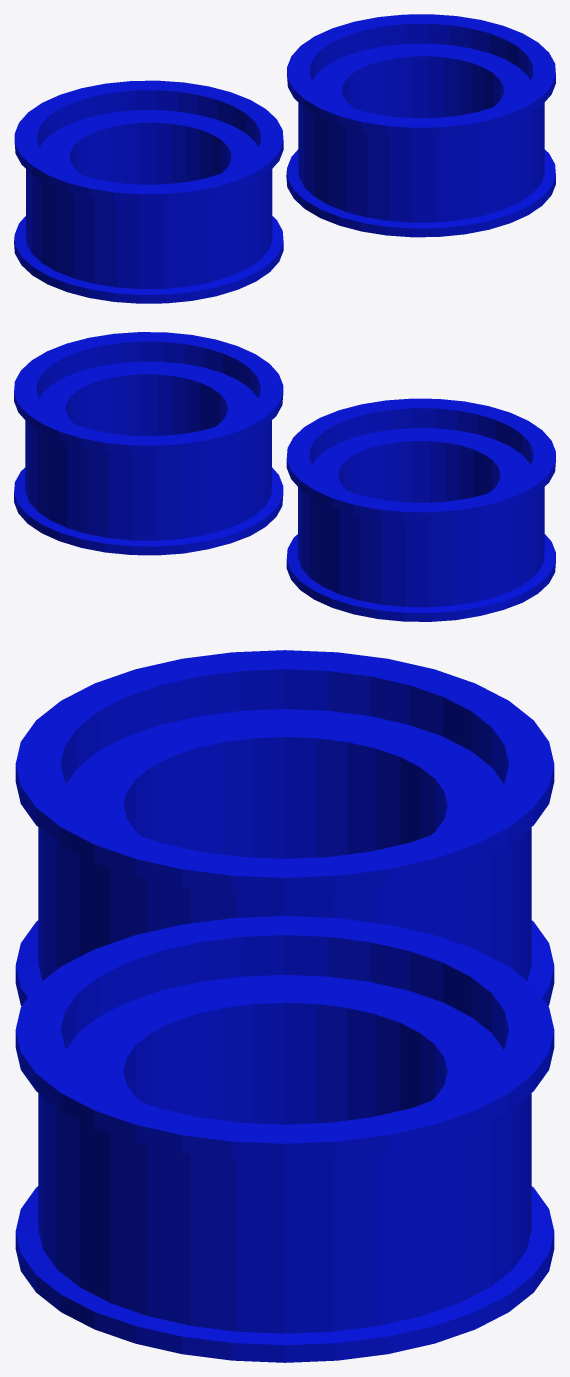
File: rims.glb
3 views of the same model, one above another, from view 1: azimuth 30°, elevation 25°; view 2: azimuth 150°, elevation 25°; view 3: azimuth 270°, elevation 25° (orthographic). The views are drawn at different scales.
Visible parts, largest first — view 1: VizDriveRims; view 2: VizDriveRims; view 3: VizDriveRims.
Part boxes in pixels (x1=…): VizDriveRims: x1=14, y1=14, x2=555, y2=303; VizDriveRims: x1=14, y1=332, x2=555, y2=621; VizDriveRims: x1=15, y1=650, x2=554, y2=1362.
Size of the model in its own units: 128 by 26.39 by 58.82.
